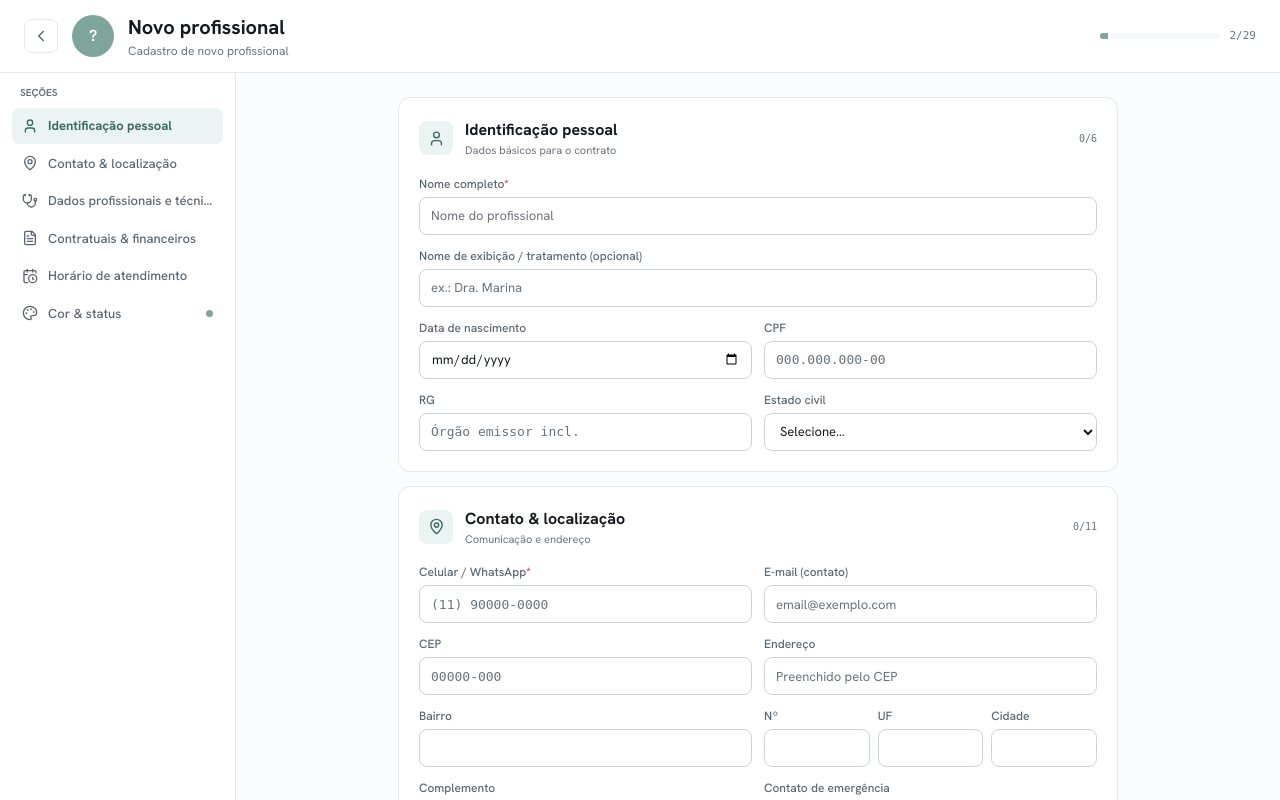
Scenario: ProfessionalForm — novo › autopreenche o endereço ao digitar um CEP válido (via BFF)
Step 1. Type "01310100" into the field with placeholder "00000-000" → (586, 676), box [419,657,752,695]
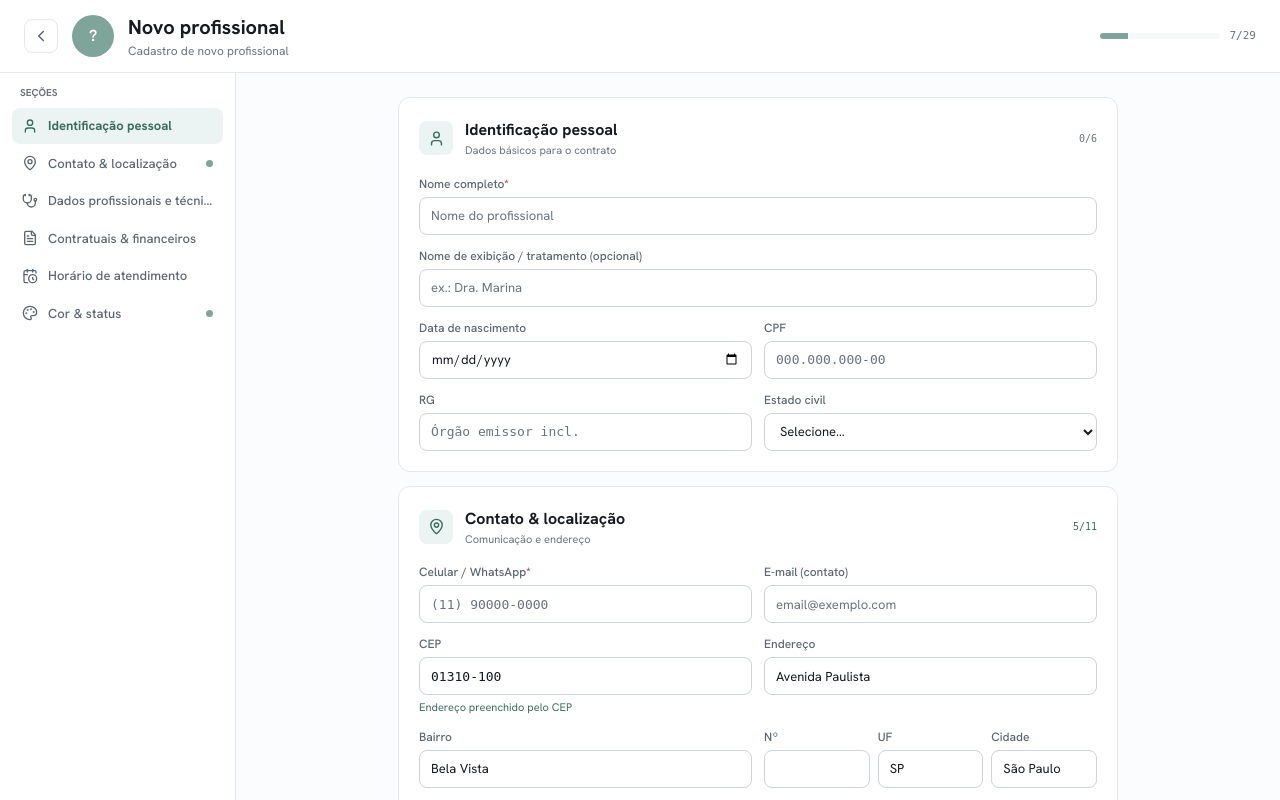
Expected: the field with placeholder "Preenchido pelo CEP" holds "Avenida Paulista", [764,657,1097,695]
